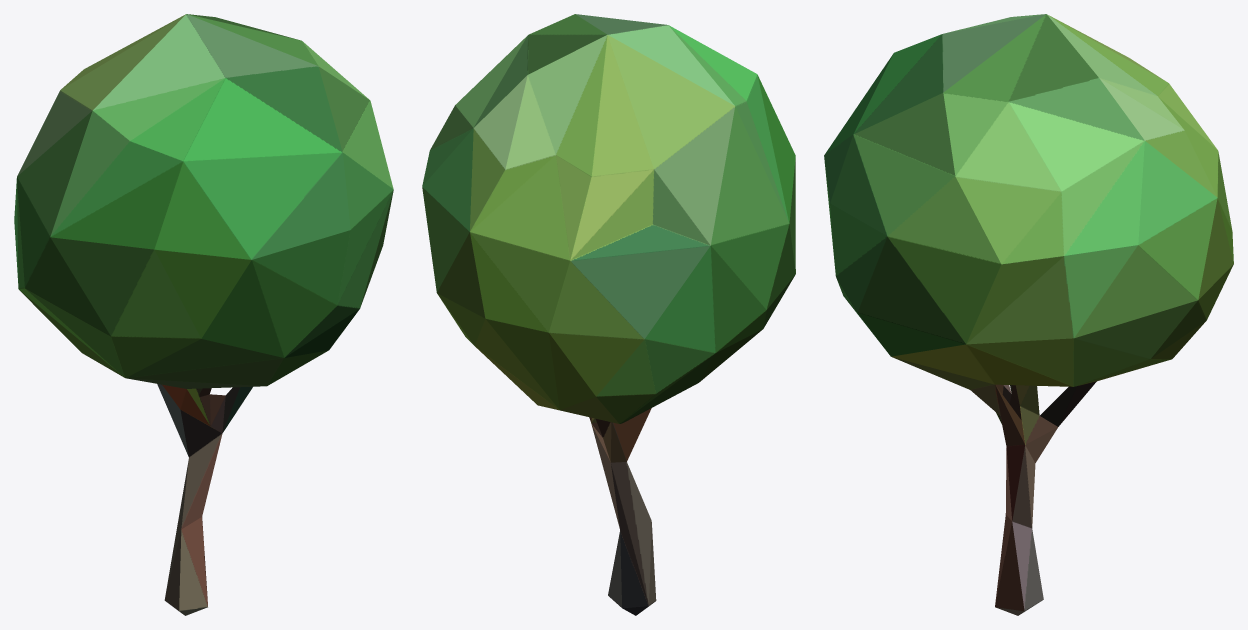
Rendered from apricot_tree_4_m_tall_1017152428_refine.obj.
3 views of the same model, side by side, from view 1: azimuth 30°, elevation 25°; view 2: azimuth 150°, elevation 25°; view 3: azimuth 270°, elevation 25° (orthographic). The views are drawn at different scales.
Parts seen in each view (by area): view 1: Mesh_0; view 2: Mesh_0; view 3: Mesh_0.
Part boxes in pixels (x1,y1,x2,y2): Mesh_0: (14, 14, 393, 615); Mesh_0: (422, 14, 795, 615); Mesh_0: (824, 14, 1233, 615).
Size of the model in its own units: 0.7093 by 1.2 by 0.7301.
1 material, 1 textured.
